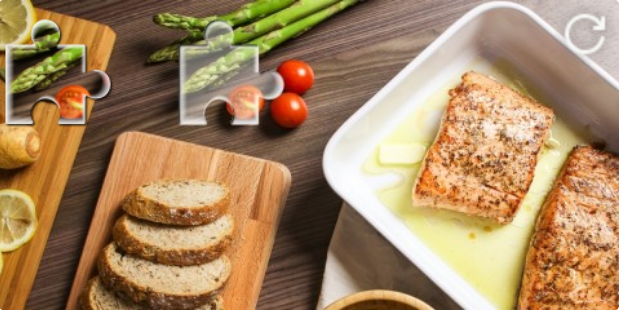target: (180, 22, 284, 126)
